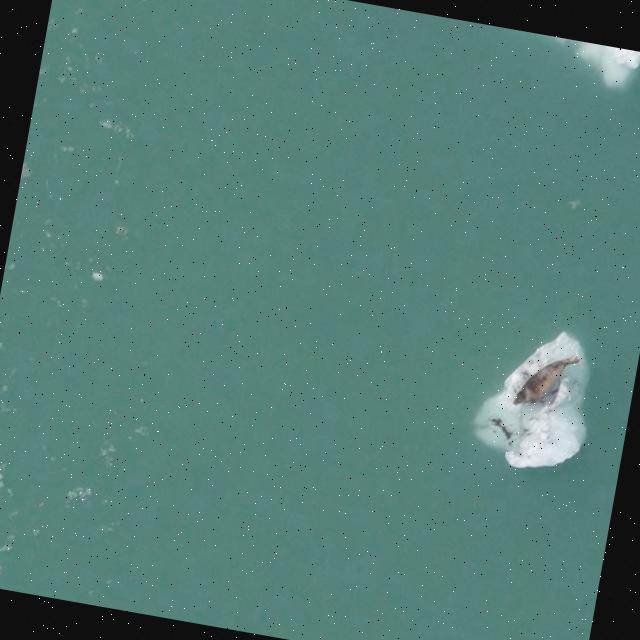seal: (507, 348, 584, 417)
